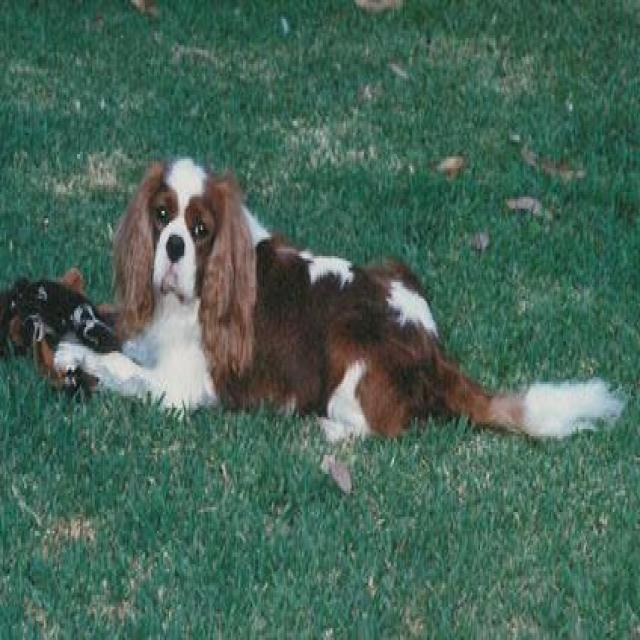blenheim_spaniel: (0, 149, 632, 452)
